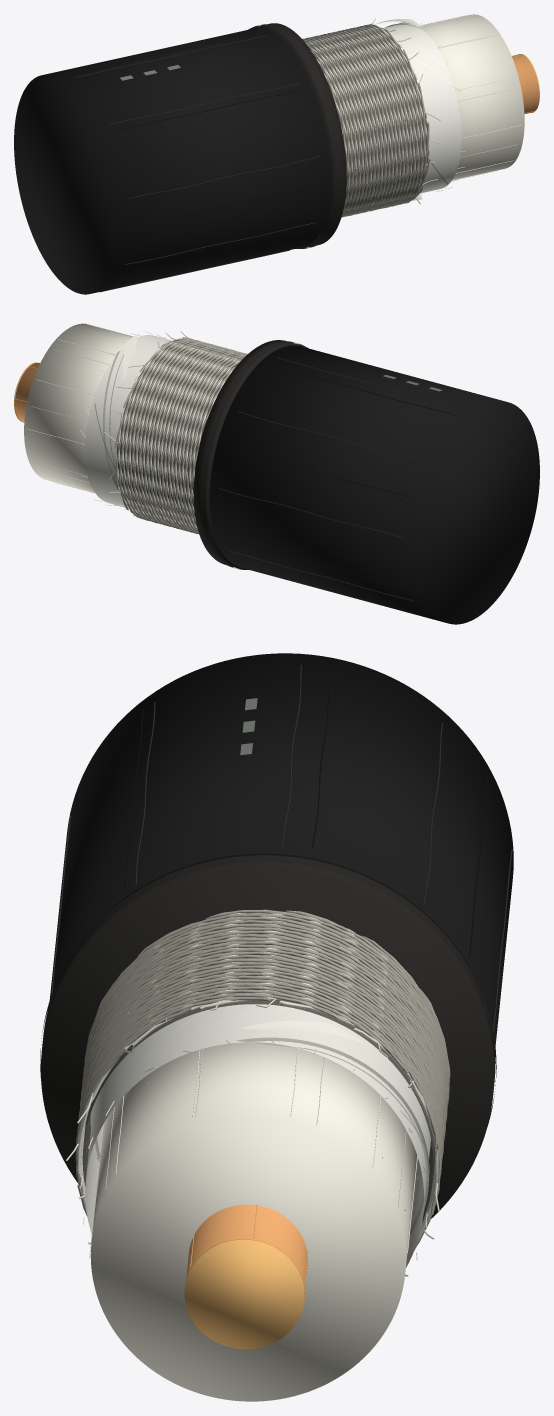
File: rf-belden9913-macro.glb
3 renders of one model, top to bottom at view 1: azimuth 30°, elevation 25°; view 2: azimuth 150°, elevation 25°; view 3: azimuth 270°, elevation 25°, orthographic. The views are drawn at different scales.
Visible parts, largest first — view 1: macro jacket body, macro dielectric exposed core, shadow seen through braid windows, continuous foil sleeve under braid, thick jacket cut wall, rounded jacket cut lip, polished solid center conductor, macro braid shadow carrier 05 strand 1, macro braid shadow carrier 04 strand 1, macro braid shadow carrier 06 strand 1, macro braid shadow carrier 03 strand 1, macro braid shadow carrier 07 strand 1 (+13 smaller); view 2: macro jacket body, macro dielectric exposed core, continuous foil sleeve under braid, shadow seen through braid windows, thick jacket cut wall, rounded jacket cut lip, macro braid shadow carrier 14 strand 1, polished solid center conductor, macro braid shadow carrier 01 strand 1, macro braid shadow carrier 12 strand 1, macro braid shadow carrier 13 strand 1, macro braid shadow carrier 02 strand 1 (+9 smaller); view 3: macro jacket body, macro dielectric exposed core, thick jacket cut wall, continuous foil sleeve under braid, polished conductor cut face glow, polished solid center conductor, rounded jacket cut lip, macro braid shadow carrier 02 strand 3, macro braid shadow carrier 01 strand 3, macro braid shadow carrier 03 strand 3, macro braid shadow carrier 13 strand 3, macro braid shadow carrier 11 strand 3 (+12 smaller).
Boxes of the visible parts, x1,y1,x2,y2 form: macro jacket body: (14,28,330,294); macro dielectric exposed core: (418,14,524,180); shadow seen through braid windows: (309,31,428,207); continuous foil sleeve under braid: (383,23,461,193); thick jacket cut wall: (248,23,346,248); rounded jacket cut lip: (252,24,339,248); polished solid center conductor: (511,54,538,114); macro braid shadow carrier 05 strand 1: (315,24,414,212); macro braid shadow carrier 04 strand 1: (314,25,410,208); macro braid shadow carrier 06 strand 1: (320,29,417,215); macro braid shadow carrier 03 strand 1: (308,26,406,210); macro braid shadow carrier 07 strand 1: (324,34,421,216); macro jacket body: (209,345,539,624); macro dielectric exposed core: (24,323,133,492); continuous foil sleeve under braid: (84,335,171,507); shadow seen through braid windows: (116,345,237,524); thick jacket cut wall: (193,340,308,569); rounded jacket cut lip: (200,341,303,569); macro braid shadow carrier 14 strand 1: (123,344,240,532); polished solid center conductor: (15,363,39,421); macro braid shadow carrier 01 strand 1: (120,343,243,531); macro braid shadow carrier 12 strand 1: (130,346,230,533); macro braid shadow carrier 13 strand 1: (126,345,236,531); macro braid shadow carrier 02 strand 1: (116,342,245,529); macro jacket body: (49,653,513,1046); macro dielectric exposed core: (90,1042,416,1401); thick jacket cut wall: (40,853,495,1218); continuous foil sleeve under braid: (85,1004,430,1267); polished conductor cut face glow: (184,1239,304,1349); polished solid center conductor: (186,1204,307,1291); rounded jacket cut lip: (40,855,496,1124); macro braid shadow carrier 02 strand 3: (81,934,441,1208); macro braid shadow carrier 01 strand 3: (84,930,446,1249); macro braid shadow carrier 03 strand 3: (79,939,445,1135); macro braid shadow carrier 13 strand 3: (80,924,446,1153); macro braid shadow carrier 11 strand 3: (81,917,447,1119).
Bounding box in the file's own units: 6.5 × 2.83 × 2.94.
